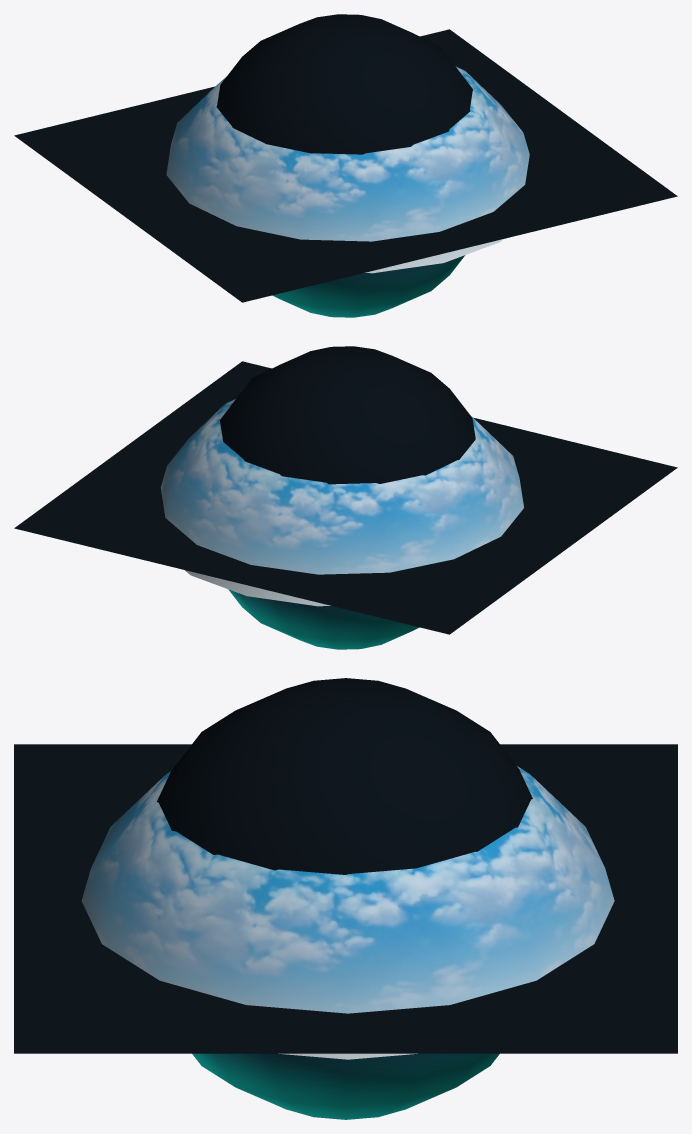
The model's file is BattleArea_0050001.fbx.
The picture shows the model from 3 angles, top to bottom: view 1: azimuth 30°, elevation 25°; view 2: azimuth 150°, elevation 25°; view 3: azimuth 270°, elevation 25°; orthographic projection. The views are drawn at different scales.
Parts seen in each view (by area): view 1: skillbg_02, sky_01_001, skillbg_01; view 2: skillbg_02, sky_01_001, skillbg_01; view 3: skillbg_02, sky_01_001, skillbg_01.
Boxes of the visible parts, x1,y1,x2,y2 form: skillbg_02: [14, 29, 677, 302]; sky_01_001: [166, 66, 529, 273]; skillbg_01: [216, 14, 472, 317]; skillbg_02: [14, 361, 677, 634]; sky_01_001: [160, 399, 523, 606]; skillbg_01: [220, 346, 475, 649]; skillbg_02: [14, 744, 677, 1053]; sky_01_001: [81, 766, 614, 1059]; skillbg_01: [157, 678, 532, 1119].
Bounding box in the file's own units: 310 × 187 × 281.
